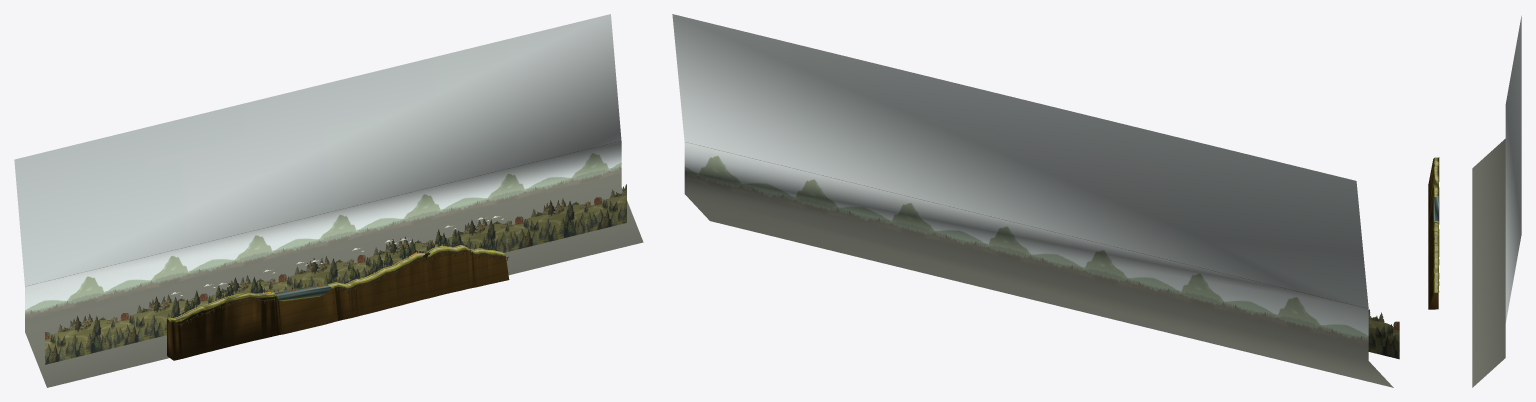
The model's file is Forest-02.fbx.
The picture shows the model from 3 angles, left to right: view 1: azimuth 30°, elevation 25°; view 2: azimuth 150°, elevation 25°; view 3: azimuth 270°, elevation 25°; orthographic projection. The views are drawn at different scales.
Visible parts, largest first — view 1: bg2, road, bg, details, fence, water; view 2: bg2, bg; view 3: bg2, road, water.
Part boxes in pixels (left/top/right/bottom): bg2: left=14, top=14, right=643, bottom=387; road: left=167, top=245, right=509, bottom=360; bg: left=45, top=184, right=626, bottom=364; details: left=173, top=229, right=493, bottom=317; fence: left=174, top=249, right=508, bottom=327; water: left=274, top=284, right=331, bottom=300; bg2: left=672, top=14, right=1393, bottom=387; bg: left=1368, top=309, right=1399, bottom=359; bg2: left=1472, top=16, right=1521, bottom=387; road: left=1428, top=157, right=1439, bottom=309; water: left=1433, top=196, right=1439, bottom=221.
Size of the model in its own units: 41544 by 13527 by 7433.
11 materials, 11 textured.
